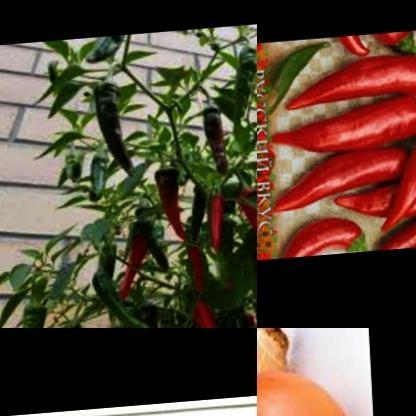hot pepper: (261, 89, 416, 167), (258, 143, 416, 216), (279, 43, 416, 115), (365, 82, 416, 240), (326, 151, 416, 224), (82, 76, 138, 184), (74, 255, 155, 328), (260, 207, 368, 259), (257, 42, 331, 117), (142, 162, 194, 256), (107, 228, 157, 310), (227, 39, 257, 142), (0, 274, 54, 328), (194, 105, 235, 176), (192, 188, 230, 263), (367, 200, 416, 251), (230, 189, 257, 276), (176, 238, 210, 298), (78, 36, 130, 68), (374, 31, 416, 64), (336, 35, 376, 62), (245, 258, 257, 320)
onion: (257, 368, 363, 416), (257, 328, 297, 416)
